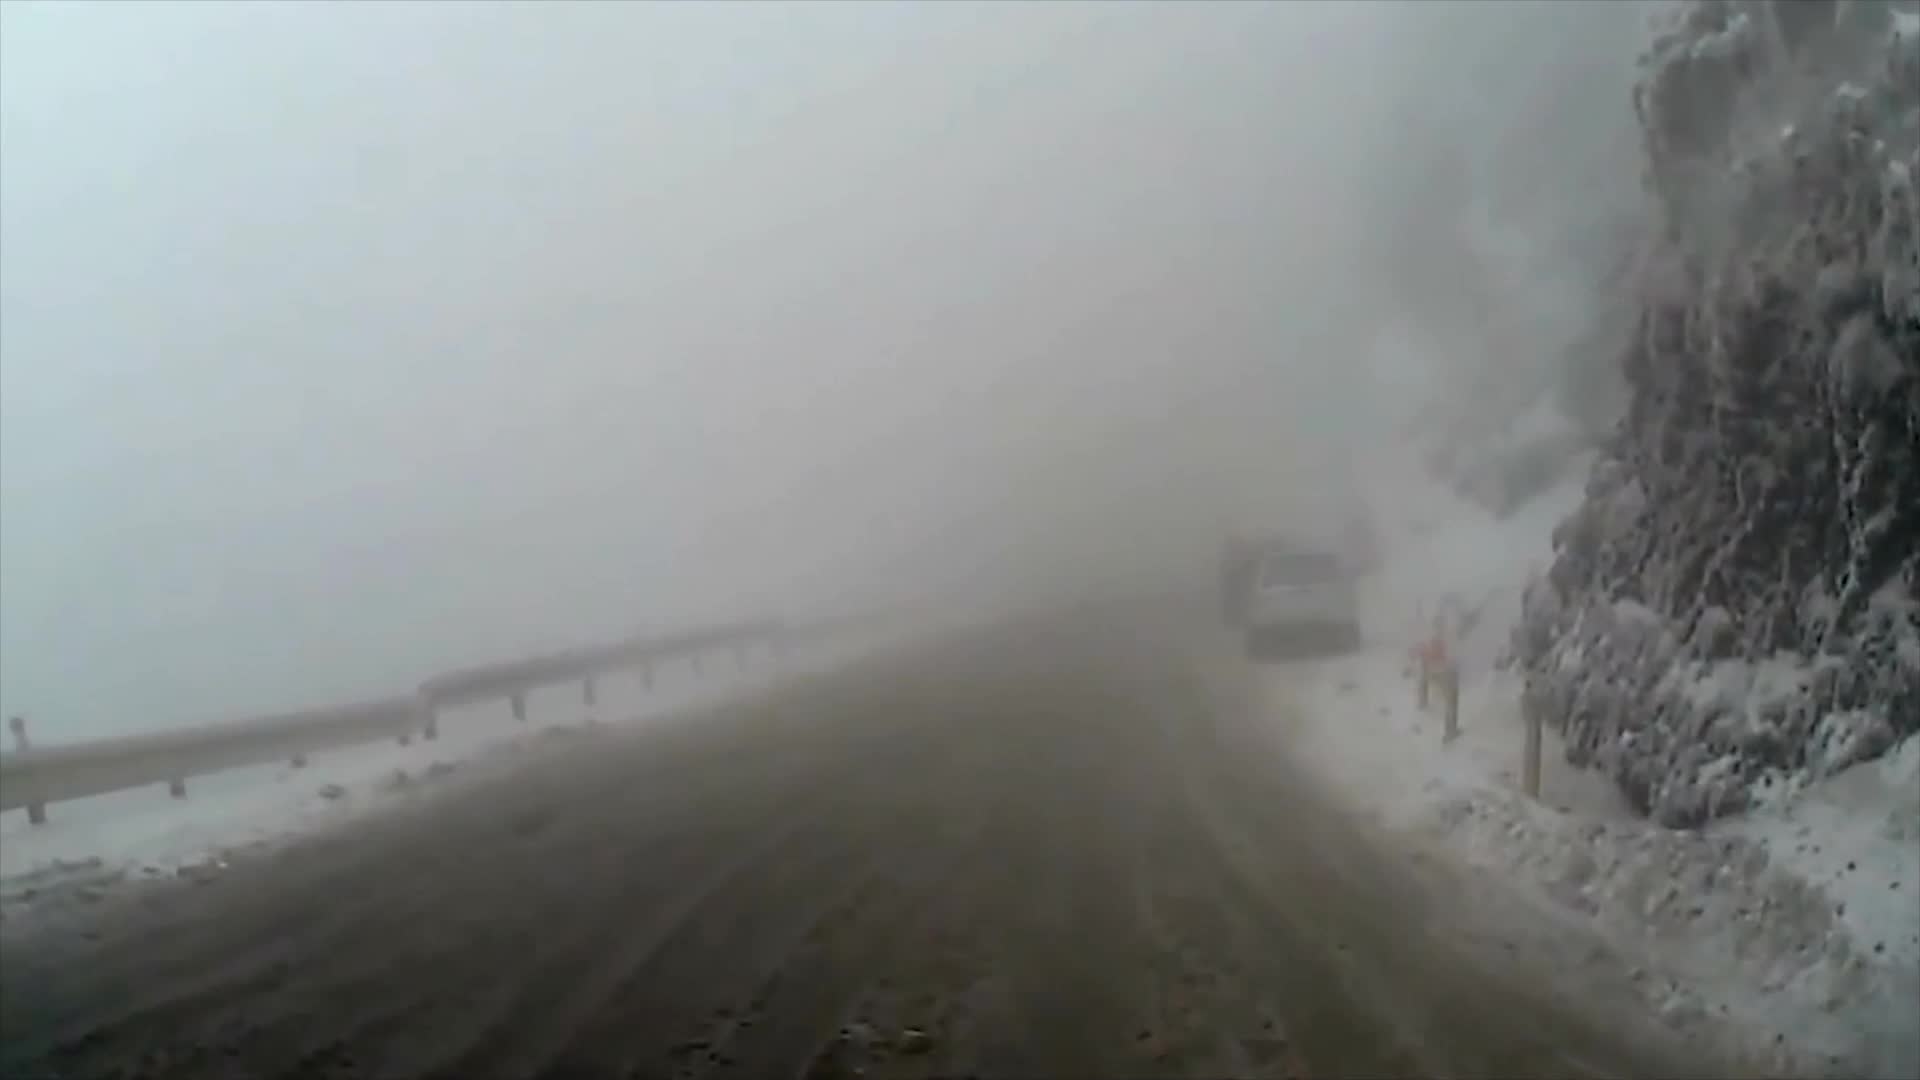vehicle: (1245, 542, 1361, 657)
